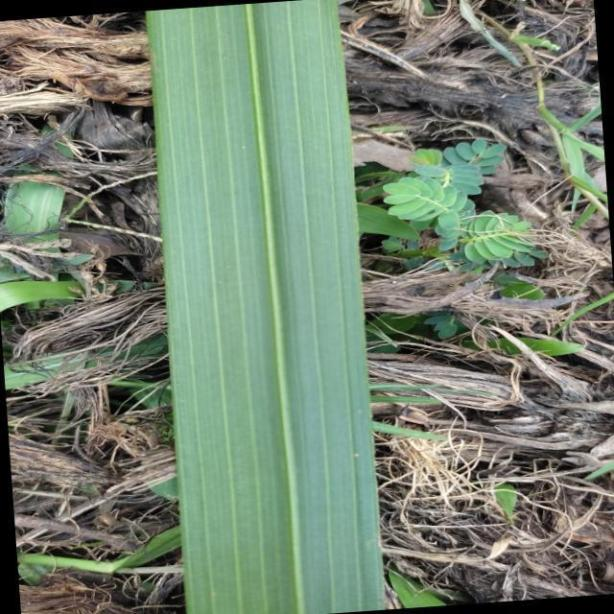Healthy: (144, 1, 387, 614)
